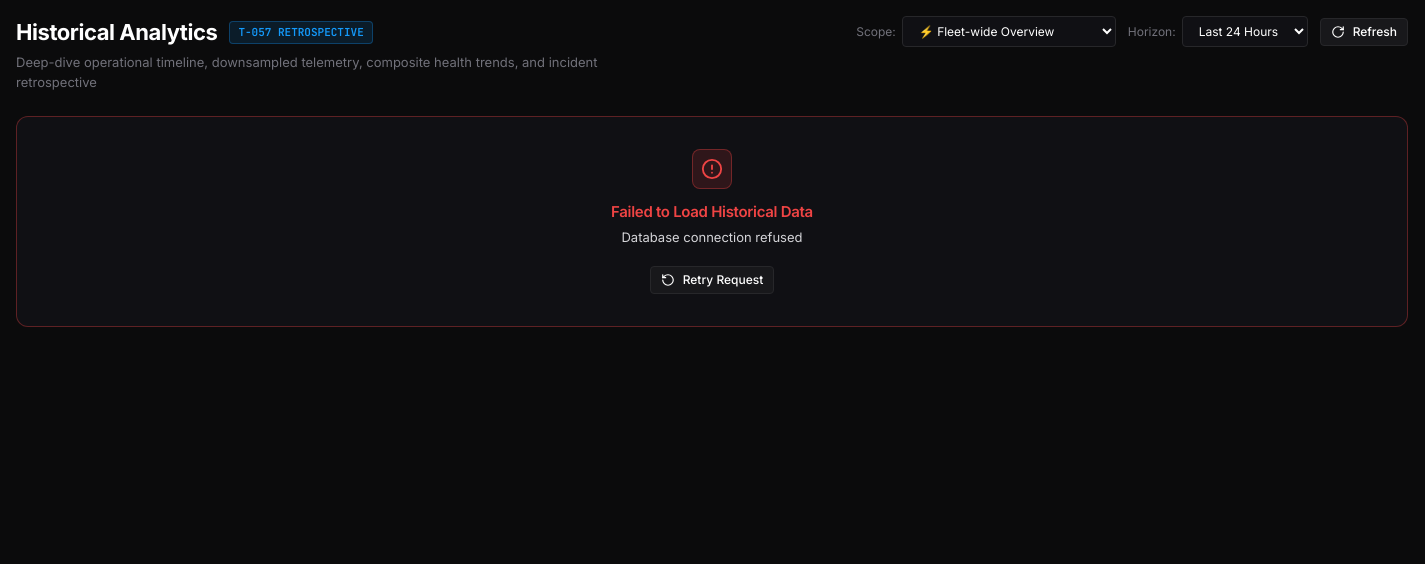
HistoryPage & Analytics (T-057) › renders error state when API fails with retry option
Expected: the heading "Failed to Load Historical Data" is shown, [611,201,813,224]
Expected: the text "Database connection refused" is shown, [611,228,813,246]
Click the button "Retry Request".
click(712, 280)  # box [650,266,774,294]
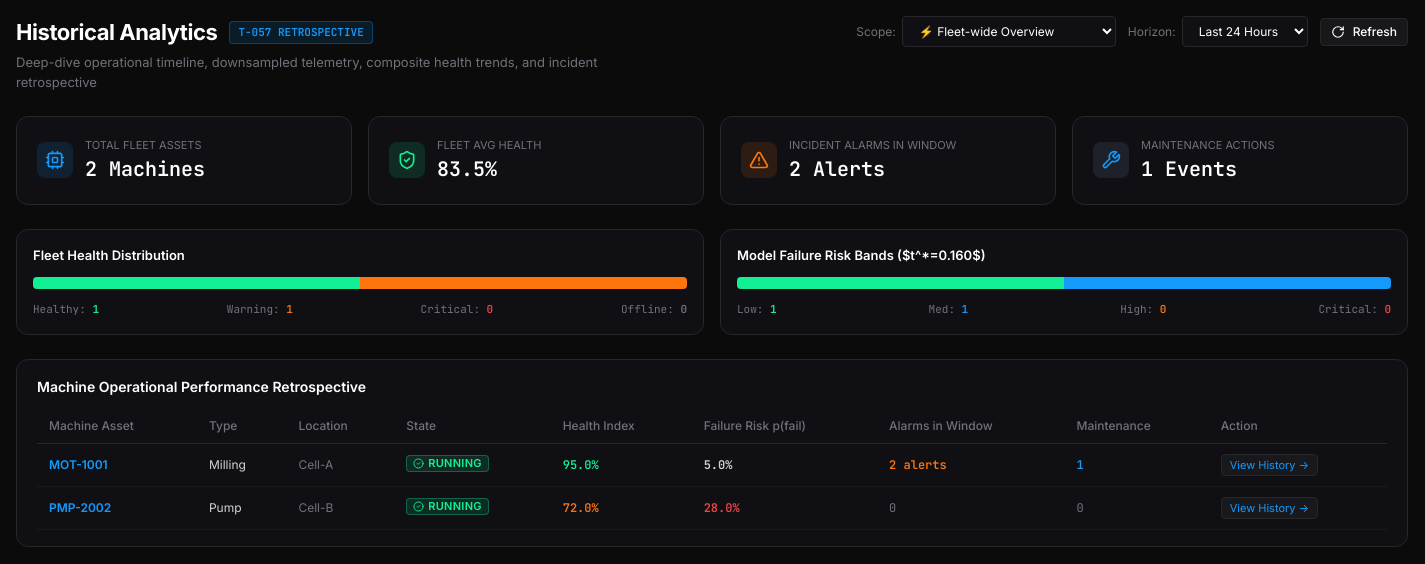
Now the heading "Failed to Load Historical Data" is gone
